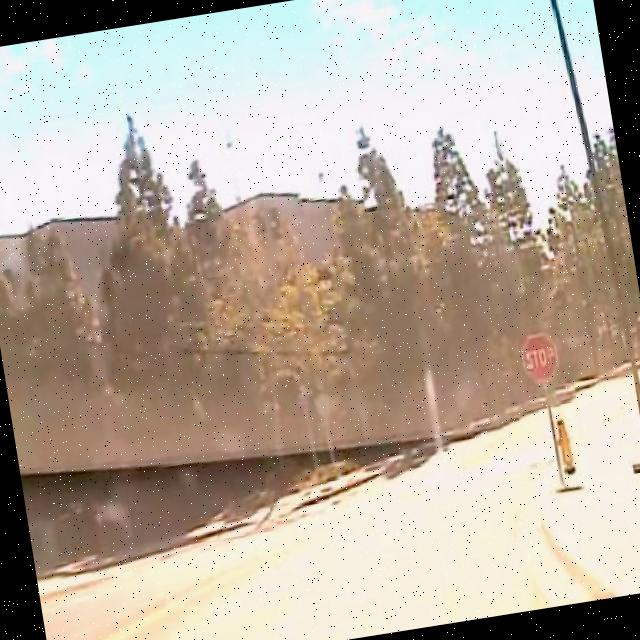Stop: (517, 328, 562, 389)
